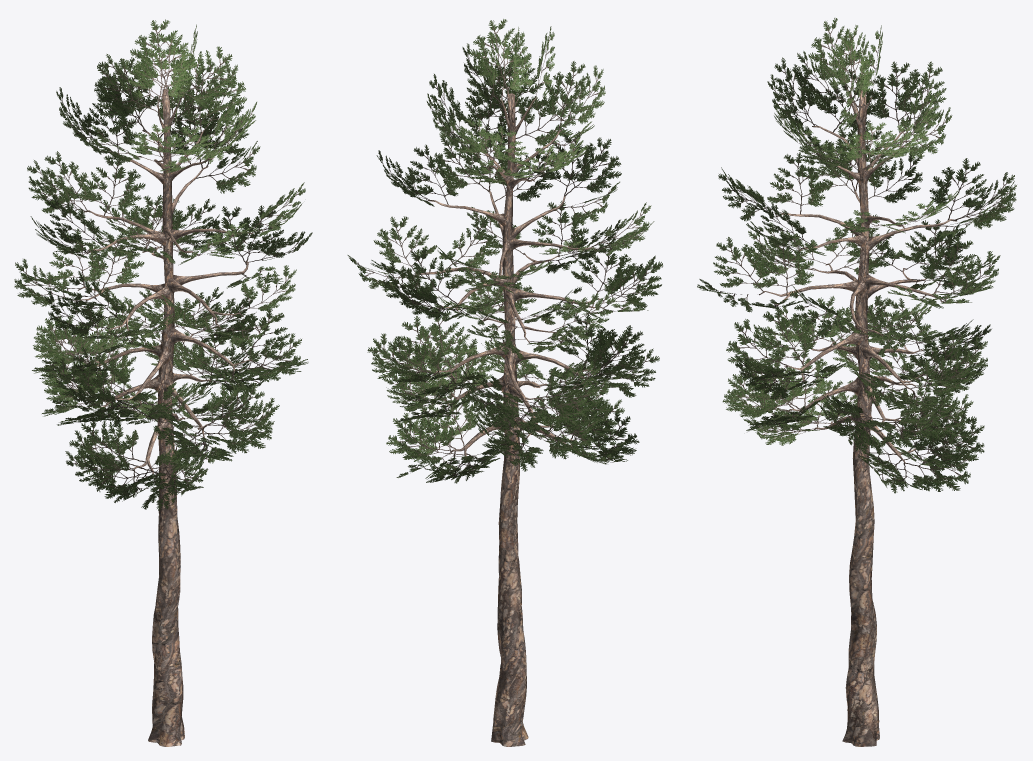
The model's file is pine_tree.gltf.
3 renders of one model, left to right at view 1: azimuth 30°, elevation 25°; view 2: azimuth 150°, elevation 25°; view 3: azimuth 270°, elevation 25°, orthographic.
Parts seen in each view (by area): view 1: Tree_1, Tree_0; view 2: Tree_1, Tree_0; view 3: Tree_1, Tree_0.
Boxes of the visible parts, x1,y1,x2,y2 form: Tree_1: (14,19,312,510); Tree_0: (77,88,253,746); Tree_1: (347,19,662,483); Tree_0: (413,88,604,746); Tree_1: (697,18,1016,493); Tree_0: (759,88,956,746).
Bounding box in the file's own units: 2.18 × 5.32 × 2.17.
2 materials, 2 textured.
